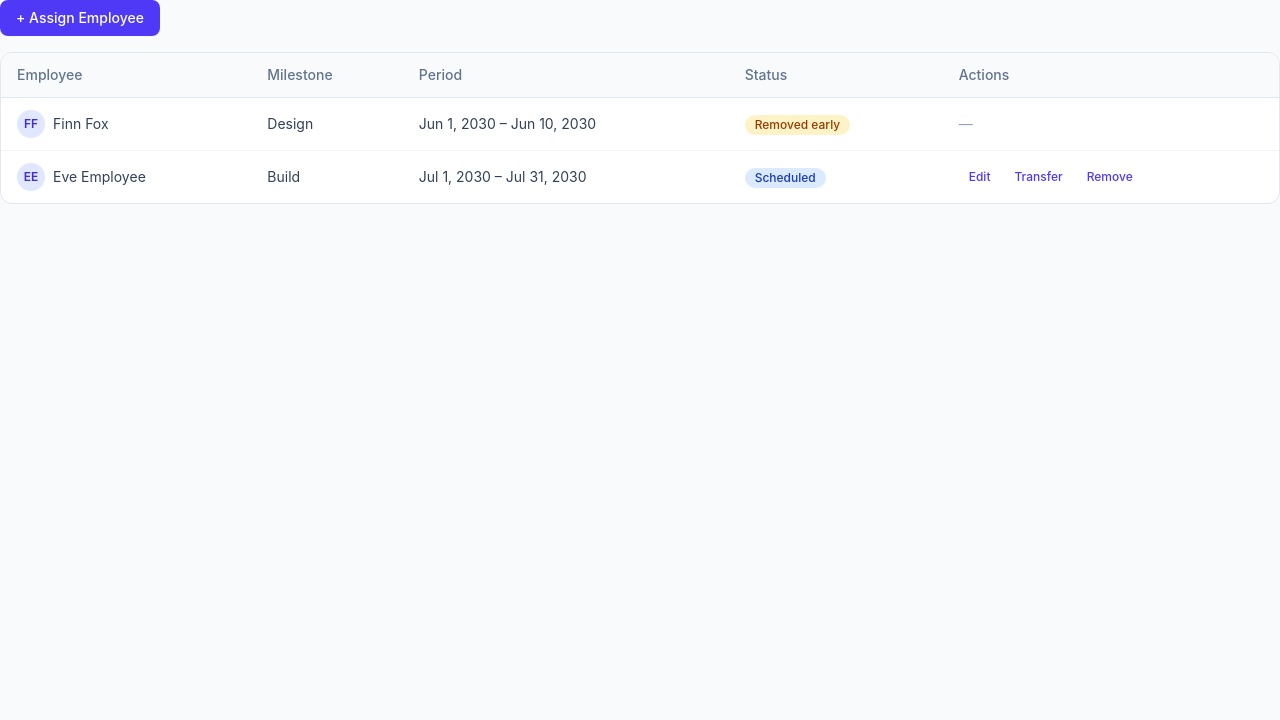
Test case: EmployeesTab › assigning an employee › requires an employee to be selected
Click the button "+ Assign Employee".
click(80, 18)  # box [0,0,160,36]
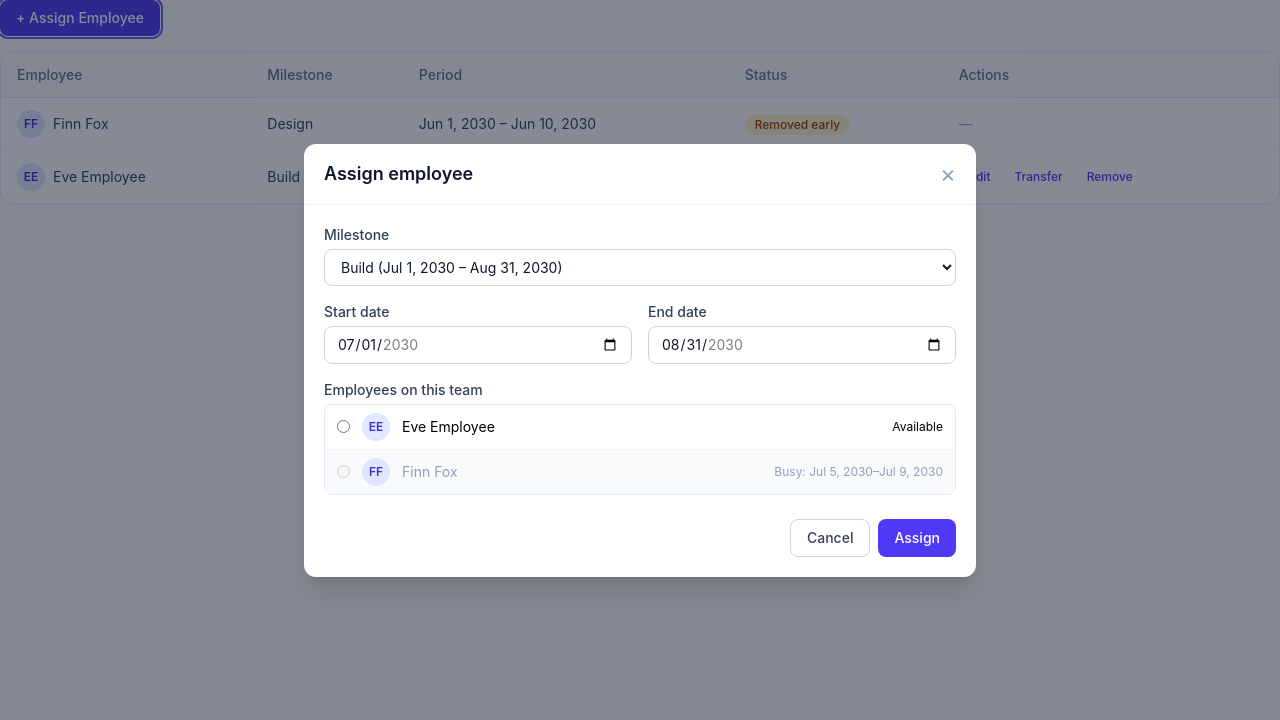
Now the radio button labelled "EE Eve Employee Available" is shown, box [337,420,350,433]
Click the button "Assign".
click(917, 538)  # box [878,518,956,556]
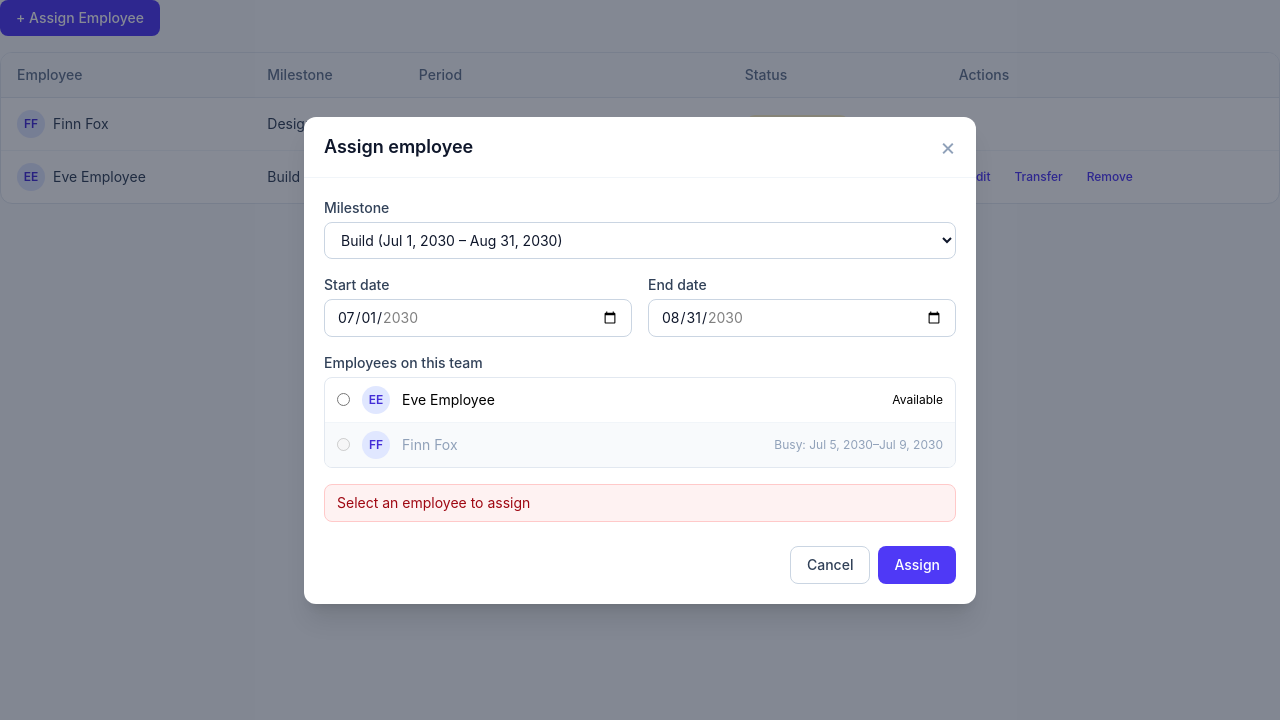
Now the message reads "Select an employee to assign", box [337,494,530,510]
